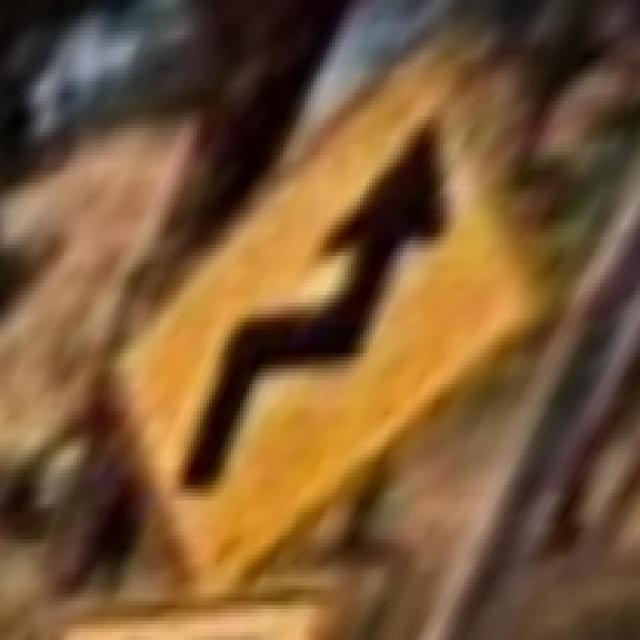Tikungan Ganda Pertama Ke Kanan: (102, 39, 536, 598)
